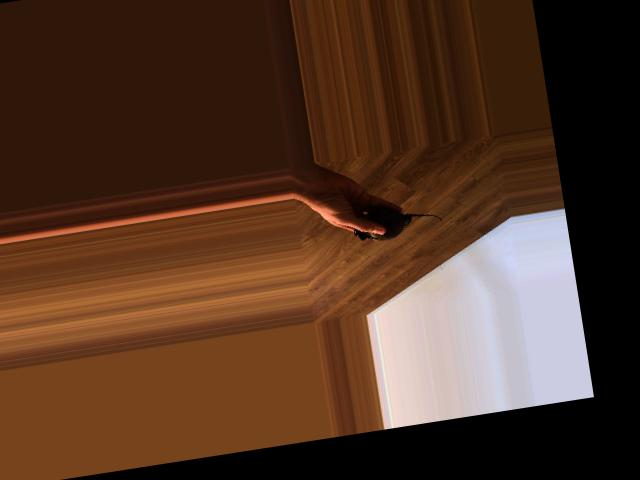beet: (351, 198, 444, 244)
